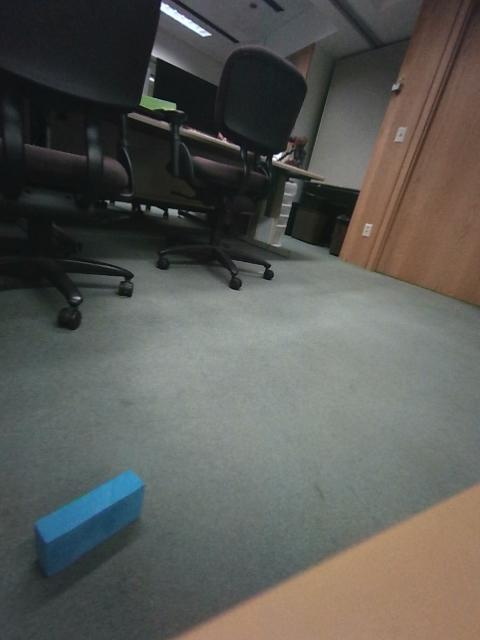block: (281, 275, 309, 297)
